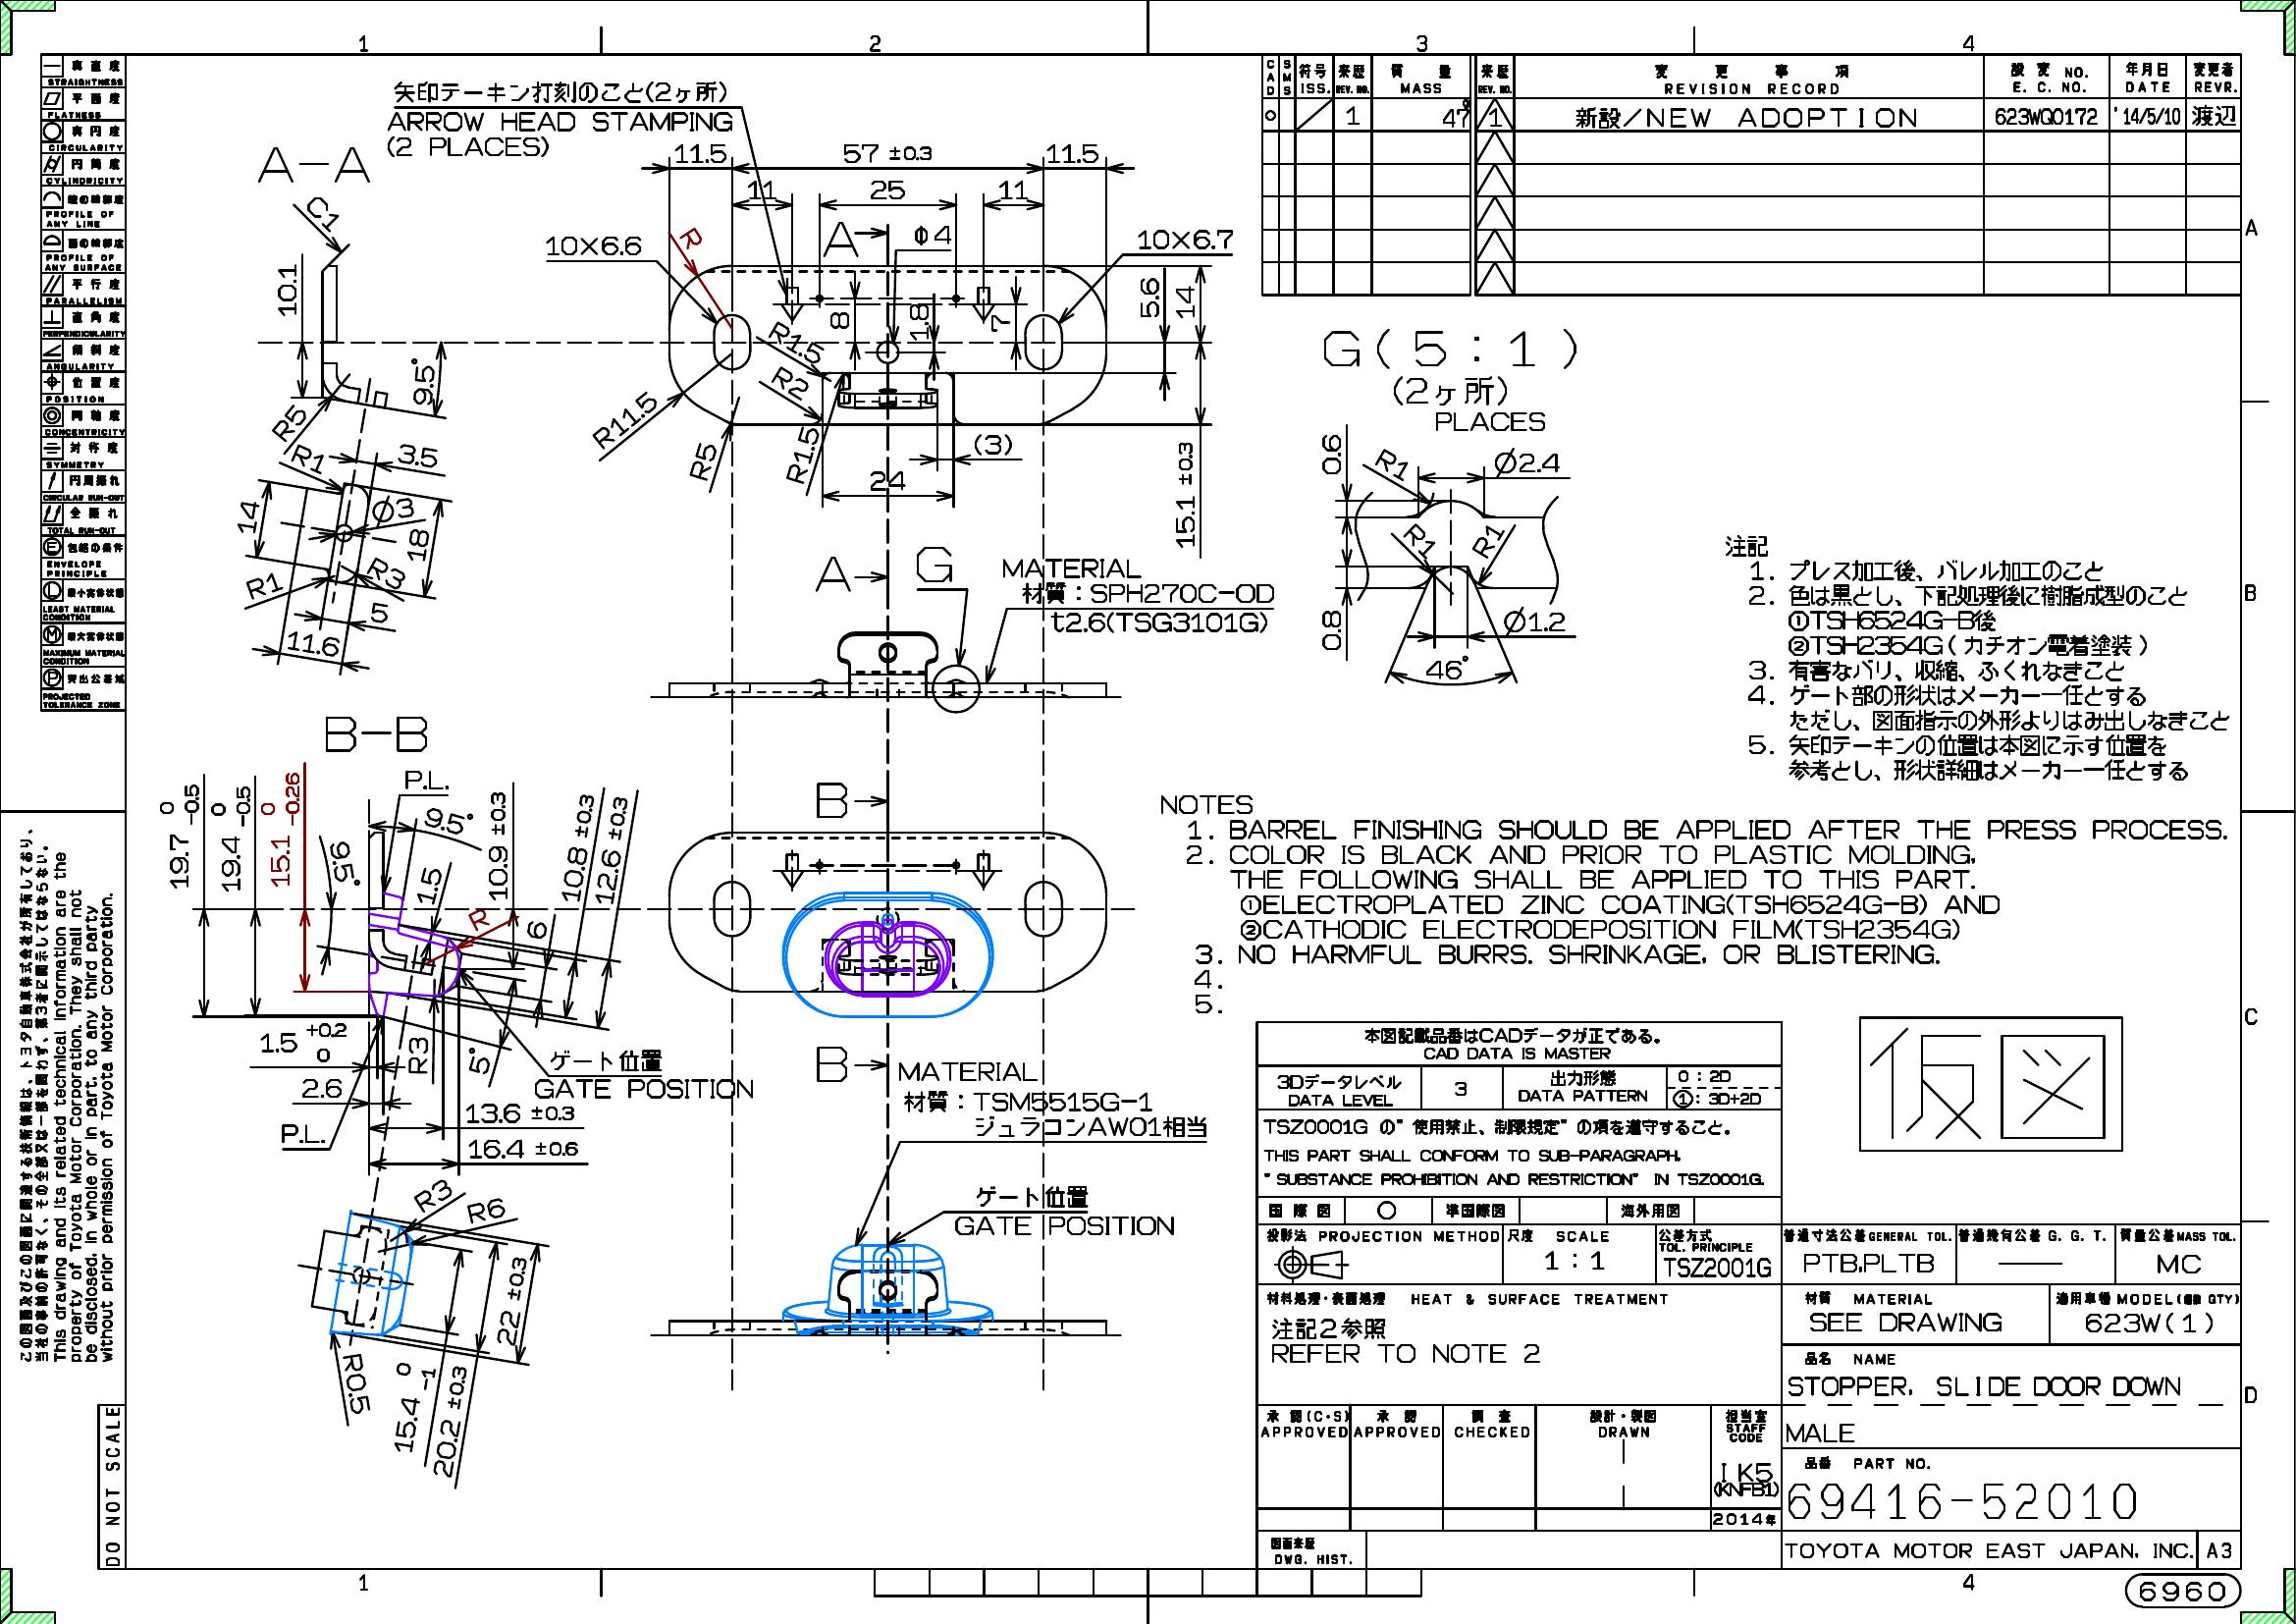anntotation_text: (1151, 789, 2233, 1018), (1718, 526, 2235, 786), (12, 823, 118, 1364), (1853, 1011, 2127, 1160), (1323, 323, 1579, 432), (896, 1058, 1209, 1137), (386, 111, 733, 158), (1000, 555, 1275, 605), (392, 79, 727, 104), (1049, 610, 1268, 634), (255, 142, 372, 188), (95, 1401, 126, 1570), (532, 1077, 755, 1100), (954, 1214, 1175, 1237), (2124, 1571, 2243, 1610), (323, 714, 430, 754), (975, 1183, 1089, 1209), (548, 1049, 662, 1072), (813, 555, 854, 596), (915, 545, 957, 584), (813, 1042, 850, 1084), (813, 779, 848, 821), (822, 221, 859, 258)
dimension_text: (258, 772, 302, 889), (156, 782, 202, 893), (207, 784, 251, 893), (386, 1360, 429, 1455), (260, 1021, 348, 1062), (437, 1362, 464, 1480), (599, 793, 624, 907), (487, 789, 511, 902), (566, 791, 590, 903), (1173, 438, 1198, 548), (467, 1137, 580, 1160), (464, 1102, 574, 1125), (1491, 446, 1563, 478), (499, 1253, 523, 1345), (841, 141, 931, 163), (545, 236, 641, 257), (1137, 228, 1233, 250), (587, 408, 662, 432), (1502, 606, 1567, 634), (766, 329, 827, 357), (344, 1352, 371, 1417), (422, 807, 476, 835), (286, 631, 341, 657), (791, 425, 815, 483), (408, 357, 436, 406), (330, 838, 357, 889), (371, 494, 415, 524), (673, 141, 727, 163), (1465, 526, 1509, 554), (1425, 654, 1469, 680), (1372, 450, 1416, 476), (1400, 527, 1444, 554), (420, 1172, 444, 1218), (769, 369, 812, 395), (397, 441, 439, 468), (278, 262, 297, 318), (464, 1199, 511, 1222), (402, 768, 450, 791), (279, 1121, 327, 1144), (1045, 144, 1100, 163), (416, 863, 441, 905), (1138, 276, 1161, 320), (300, 1076, 343, 1098), (973, 432, 1012, 457), (244, 573, 281, 598), (1321, 432, 1342, 475), (913, 225, 952, 248), (692, 441, 715, 480), (1173, 283, 1196, 322), (1321, 610, 1342, 650), (304, 202, 344, 223), (269, 413, 309, 434), (408, 1035, 429, 1076), (870, 468, 906, 490), (292, 446, 329, 469), (367, 562, 406, 584), (408, 526, 429, 564), (908, 304, 929, 341), (237, 499, 260, 533), (870, 179, 906, 199), (467, 1046, 490, 1076), (678, 225, 704, 250), (998, 179, 1029, 199), (747, 179, 776, 199), (467, 909, 490, 932), (525, 917, 548, 940), (369, 601, 388, 624), (829, 311, 850, 330), (989, 315, 1012, 332)
object: (666, 828, 1108, 1019), (666, 262, 1108, 425), (648, 1241, 1123, 1341), (646, 629, 1124, 701), (1351, 497, 1560, 592), (314, 1209, 411, 1341), (365, 891, 462, 1019), (320, 262, 388, 408), (334, 482, 365, 584)
title_block: (1253, 1016, 2245, 1570), (1256, 47, 2247, 301), (39, 49, 128, 714)
